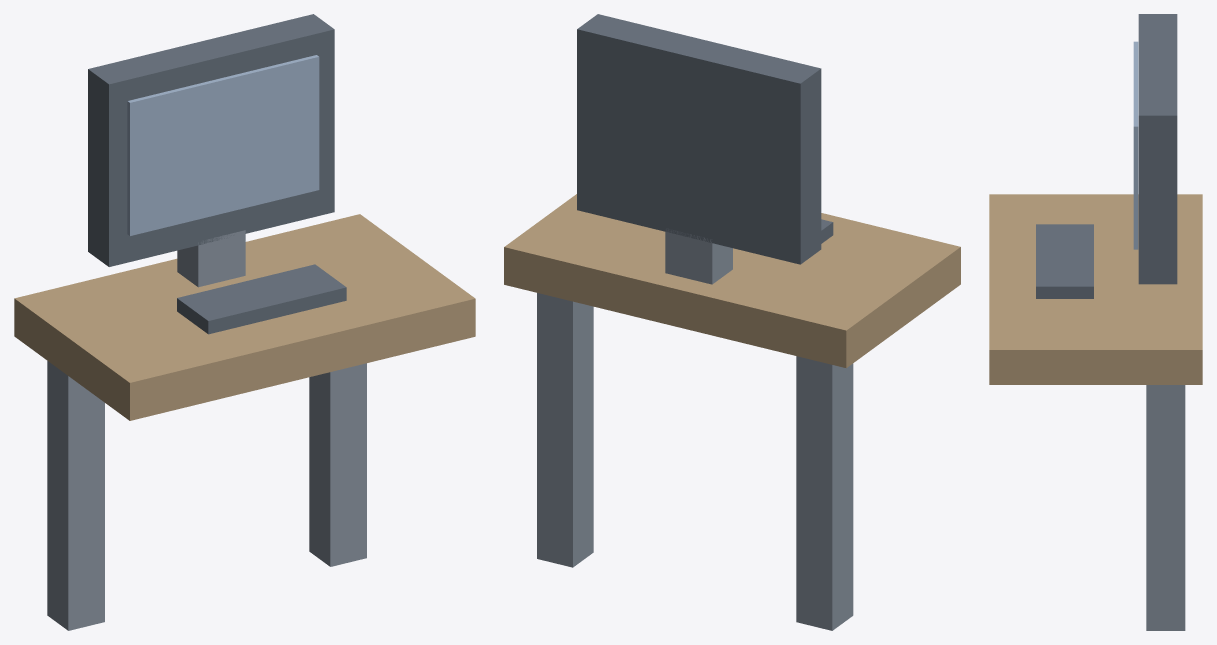
File: inventory_terminal.glb
The picture shows the model from 3 angles, left to right: view 1: azimuth 30°, elevation 25°; view 2: azimuth 150°, elevation 25°; view 3: azimuth 270°, elevation 25°; orthographic projection. The views are drawn at different scales.
Parts seen in each view (by area): view 1: inventory_terminal_000_Desk, inventory_terminal_004_Monitor_screen, inventory_terminal_003_Monitor, inventory_terminal_001_Desk_leg, inventory_terminal_002_Desk_leg, inventory_terminal_006_Keyboard, inventory_terminal_005_Monitor_stand; view 2: inventory_terminal_003_Monitor, inventory_terminal_000_Desk, inventory_terminal_001_Desk_leg, inventory_terminal_002_Desk_leg, inventory_terminal_005_Monitor_stand; view 3: inventory_terminal_000_Desk, inventory_terminal_003_Monitor, inventory_terminal_002_Desk_leg, inventory_terminal_006_Keyboard, inventory_terminal_004_Monitor_screen.
Boxes of the visible parts, bbox=[...] form: inventory_terminal_000_Desk: bbox=[14, 214, 475, 420]; inventory_terminal_004_Monitor_screen: bbox=[127, 55, 319, 235]; inventory_terminal_003_Monitor: bbox=[88, 14, 334, 266]; inventory_terminal_001_Desk_leg: bbox=[47, 361, 104, 630]; inventory_terminal_002_Desk_leg: bbox=[309, 363, 366, 566]; inventory_terminal_006_Keyboard: bbox=[177, 264, 346, 334]; inventory_terminal_005_Monitor_stand: bbox=[177, 230, 245, 287]; inventory_terminal_003_Monitor: bbox=[577, 14, 821, 264]; inventory_terminal_000_Desk: bbox=[504, 194, 960, 368]; inventory_terminal_001_Desk_leg: bbox=[796, 356, 853, 630]; inventory_terminal_002_Desk_leg: bbox=[537, 293, 593, 567]; inventory_terminal_005_Monitor_stand: bbox=[665, 228, 732, 284]; inventory_terminal_000_Desk: bbox=[989, 194, 1202, 384]; inventory_terminal_003_Monitor: bbox=[1138, 14, 1177, 284]; inventory_terminal_002_Desk_leg: bbox=[1146, 385, 1185, 630]; inventory_terminal_006_Keyboard: bbox=[1036, 224, 1093, 298]; inventory_terminal_004_Monitor_screen: bbox=[1133, 41, 1138, 249].
Bounding box in the file's own units: 0.95 × 1.42 × 0.55.
